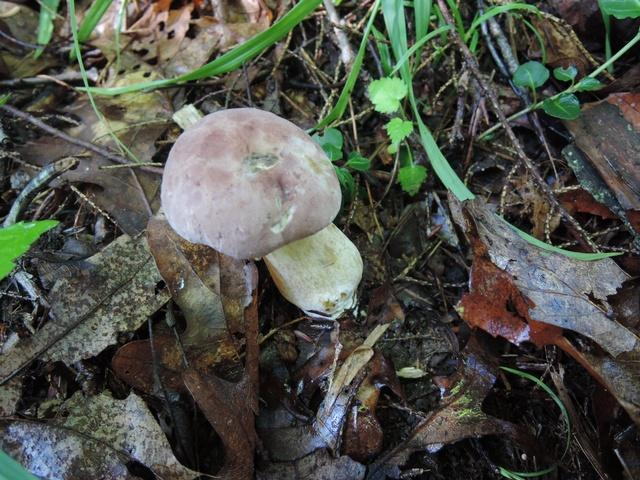poisonous_mushroom: (159, 105, 364, 320)
